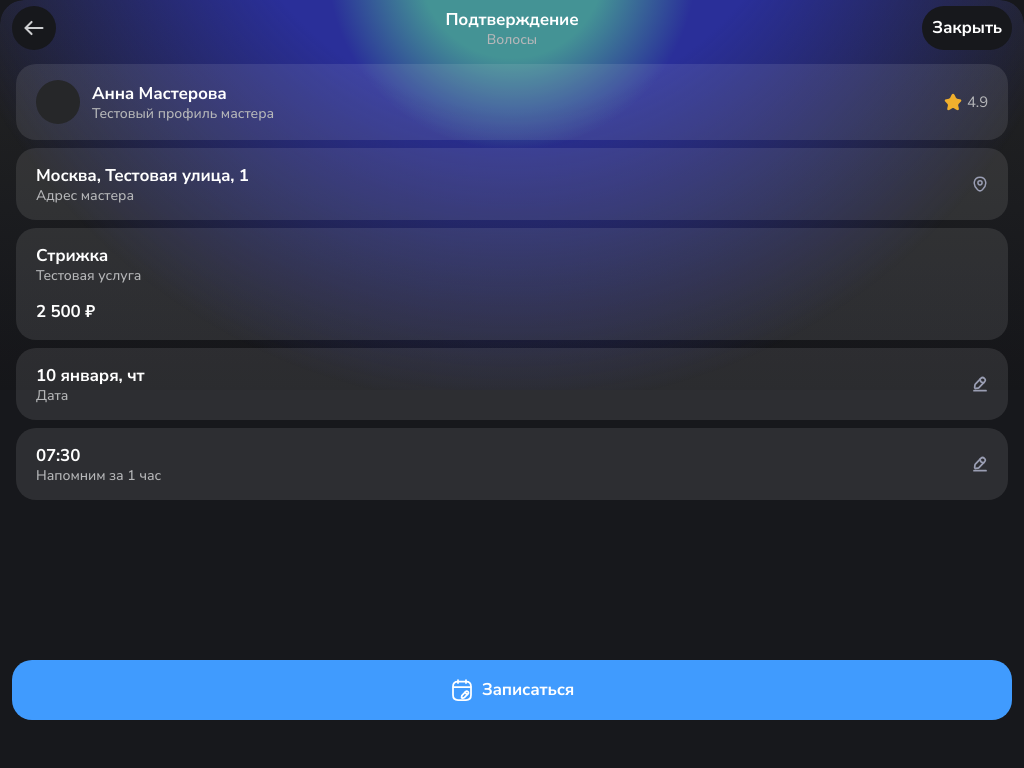
Test case: client standard booking create and reschedule › редактирование напоминания на confirmation открывает picker
The image size is (1024, 768).
Expected: the text "Анна Мастерова" is shown, [92, 82, 227, 105]
Click the button with aria-label "Изменить напоминание".
click(58, 456)  # box [16, 428, 1008, 500]
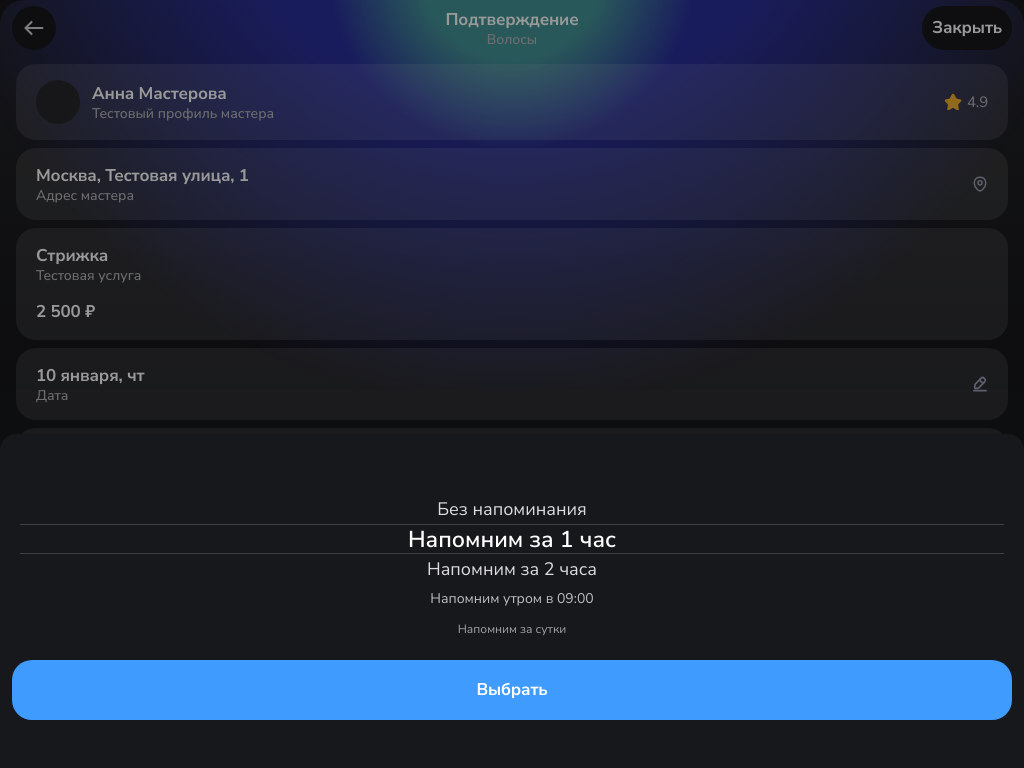
Expected: the button "Выбрать" is shown, [12, 660, 1012, 720]
